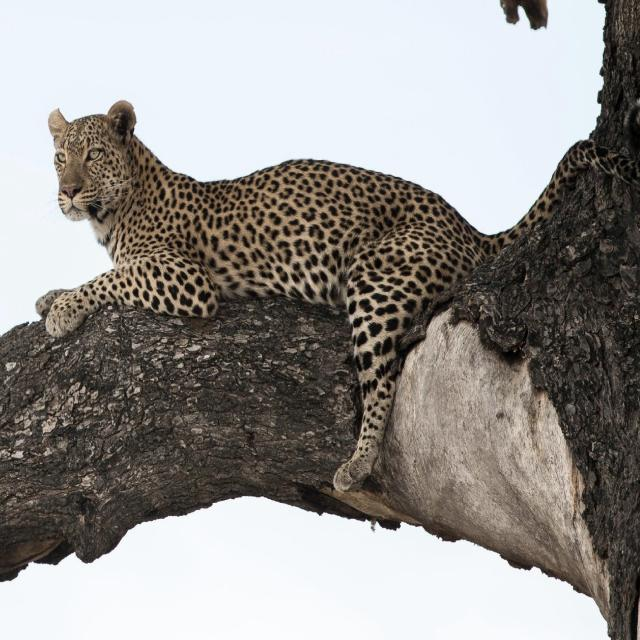leopard: (36, 101, 640, 490)
